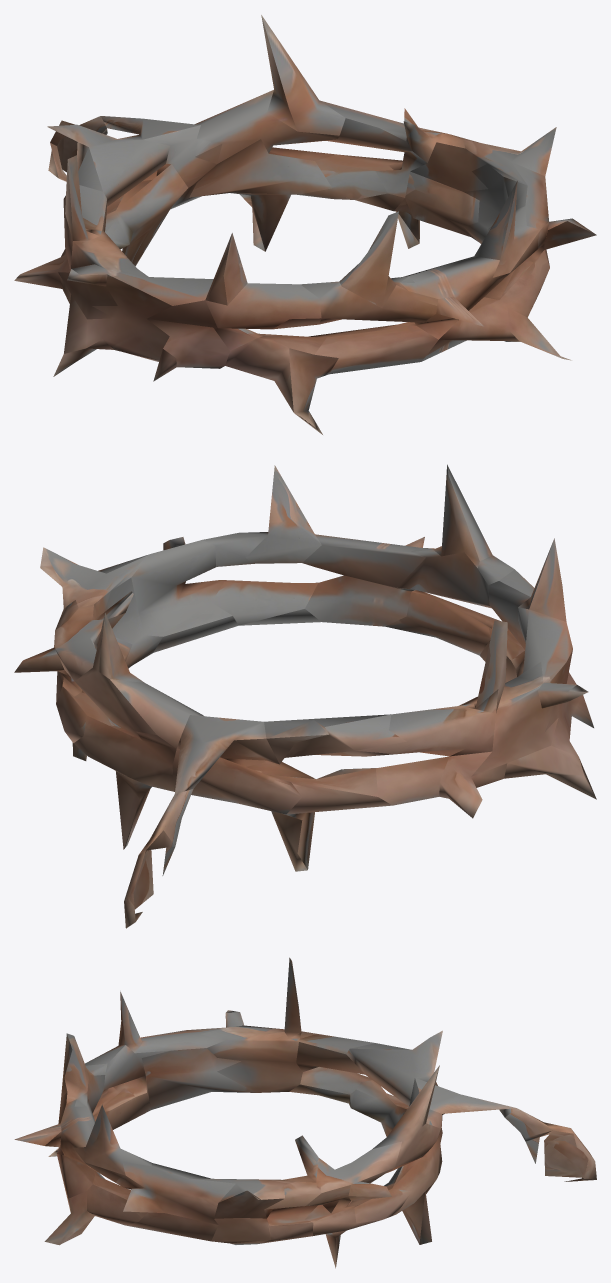
The model's file is Palisade.glb.
The picture shows the model from 3 angles, top to bottom: view 1: azimuth 30°, elevation 25°; view 2: azimuth 150°, elevation 25°; view 3: azimuth 270°, elevation 25°; orthographic projection. The views are drawn at different scales.
Parts seen in each view (by area): view 1: Palisade; view 2: Palisade; view 3: Palisade.
Part boxes in pixels (<box>): Palisade: <box>14,15,596,434</box>; Palisade: <box>14,464,596,928</box>; Palisade: <box>14,957,596,1268</box>.
Size of the model in its own units: 0.8208 by 0.3467 by 0.9963.
Materials: 1 (1 with a texture image).
